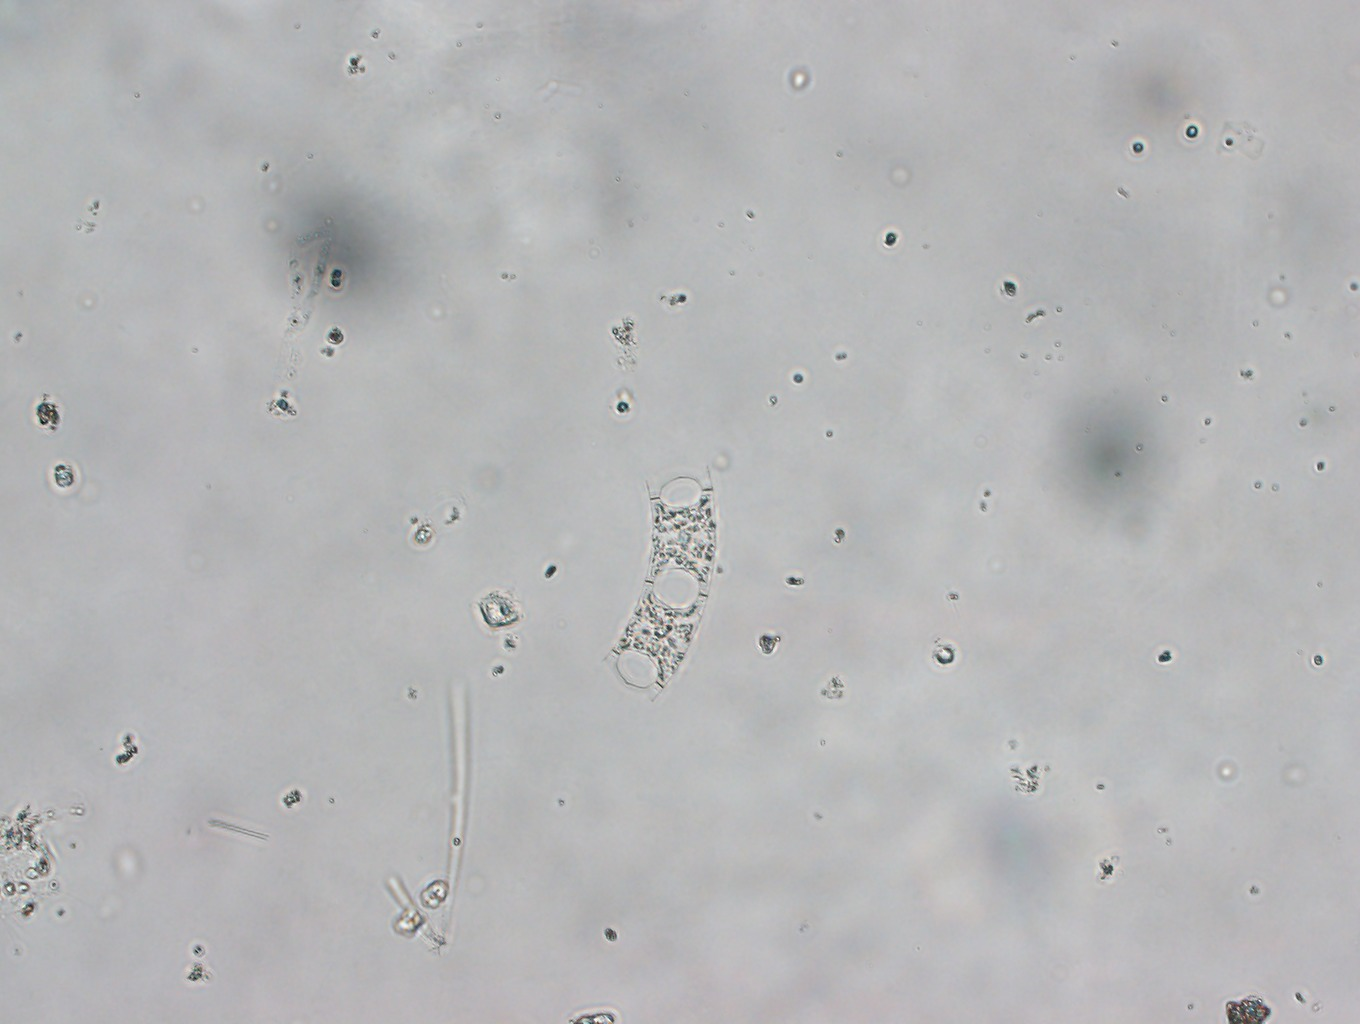eucampia: (583, 464, 732, 705)
